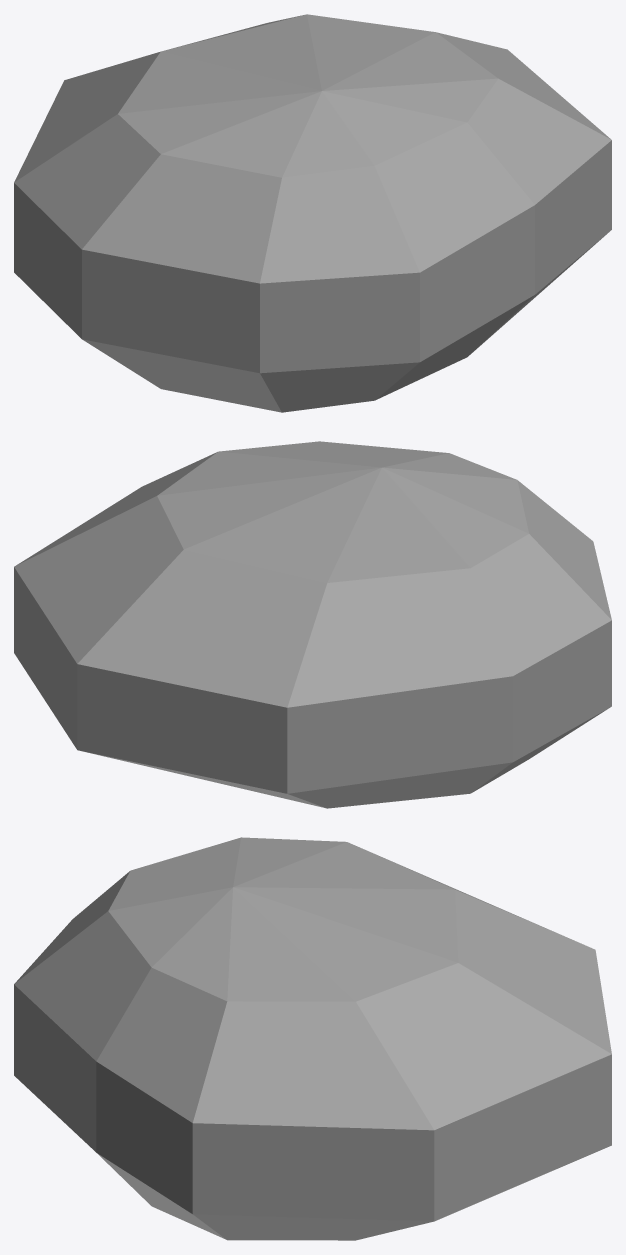
The model's file is rock3.fbx.
The picture shows the model from 3 angles, top to bottom: view 1: azimuth 30°, elevation 25°; view 2: azimuth 150°, elevation 25°; view 3: azimuth 270°, elevation 25°; orthographic projection. The views are drawn at different scales.
Visible parts, largest first — view 1: rock3; view 2: rock3; view 3: rock3.
Part boxes in pixels (box(x1,y1,x2,y2)): rock3: box(14, 14, 611, 412); rock3: box(14, 441, 611, 808); rock3: box(14, 837, 611, 1240).
Size of the model in its own units: 0.8912 by 0.4716 by 0.8659.
